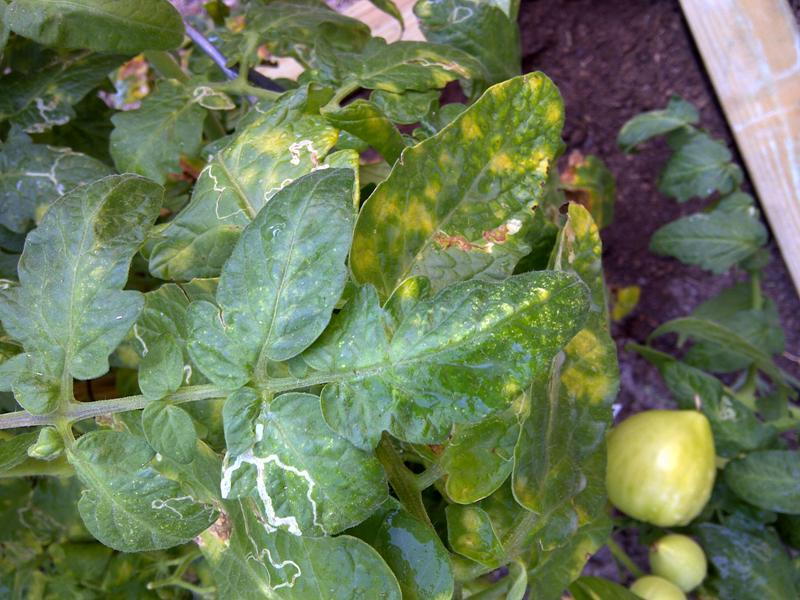Tomato mold leaf: (300, 268, 607, 454), (352, 66, 576, 318), (2, 143, 185, 401), (196, 160, 371, 373), (61, 420, 229, 562)
